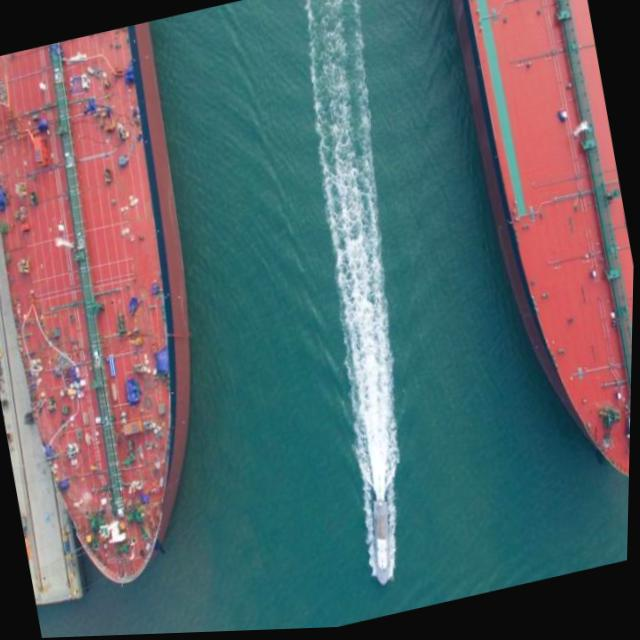ship2: (0, 23, 195, 585), (451, 0, 635, 484)
